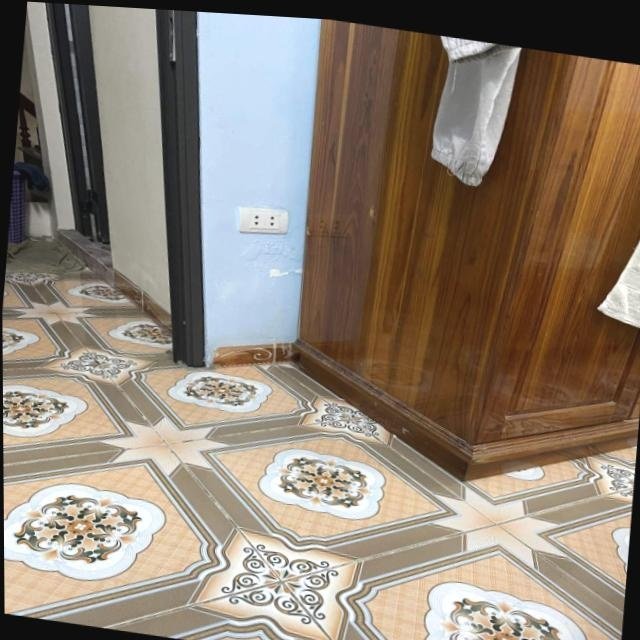outlet: (236, 201, 289, 239)
